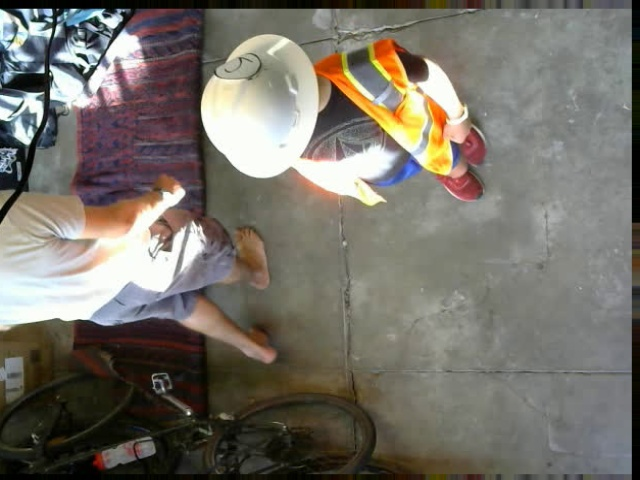two: (213, 52, 260, 80)
